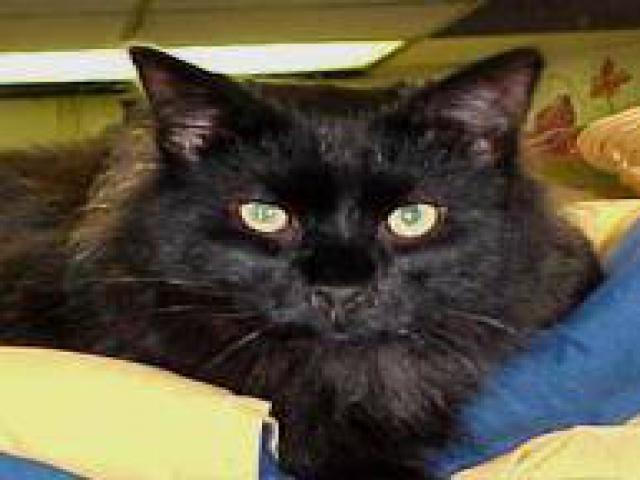cat: (38, 27, 599, 476)
